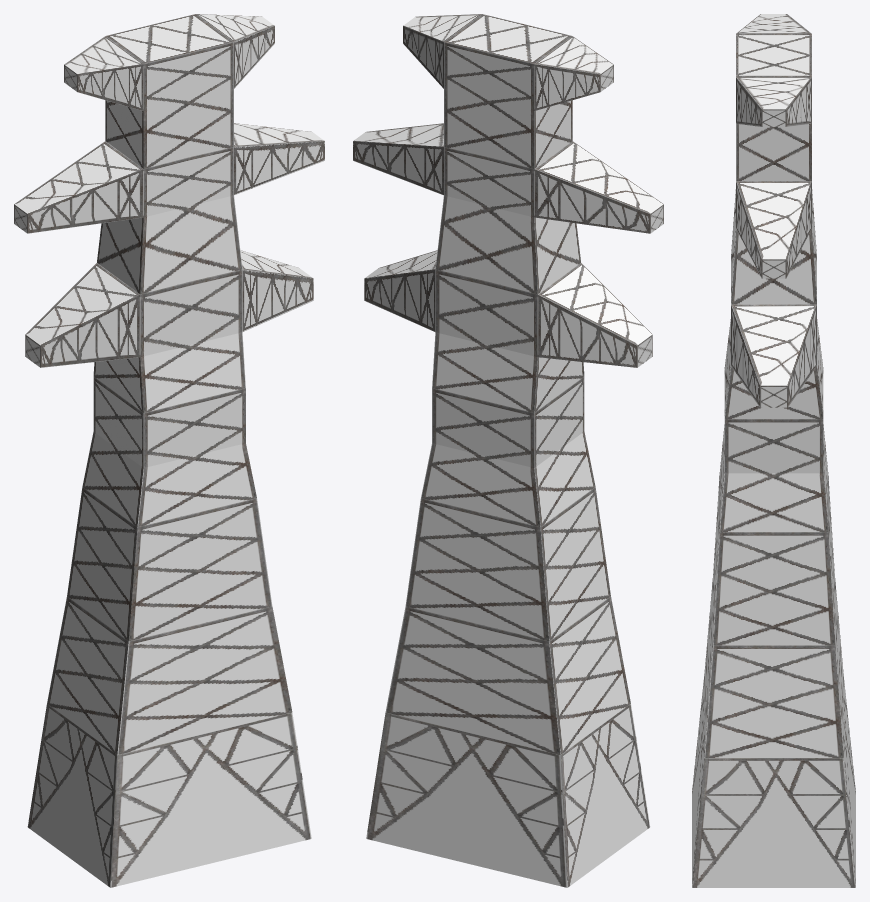
Rendered from HighVolt_Tower.fbx.
The picture shows the model from 3 angles, left to right: view 1: azimuth 30°, elevation 25°; view 2: azimuth 150°, elevation 25°; view 3: azimuth 270°, elevation 25°; orthographic projection.
Visible parts, largest first — view 1: TransmissionTower1; view 2: TransmissionTower1; view 3: TransmissionTower1.
Part boxes in pixels (x1,y1,x2,y2): TransmissionTower1: (14, 14, 324, 887); TransmissionTower1: (353, 14, 663, 887); TransmissionTower1: (692, 14, 855, 887).
Bounding box in the file's own units: 1464 × 3730 × 706.
